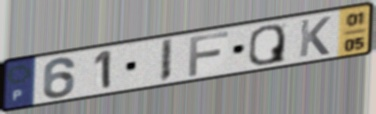1: (91, 48, 112, 91)
6: (41, 56, 77, 100)
F: (186, 29, 231, 78)
I: (158, 37, 175, 84)
K: (297, 15, 333, 59)
Q: (246, 23, 287, 67)
